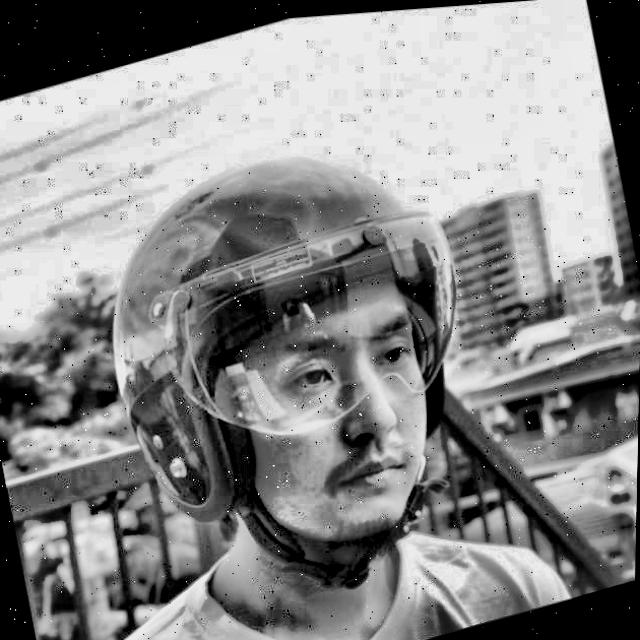Helmet: (62, 89, 529, 640)
